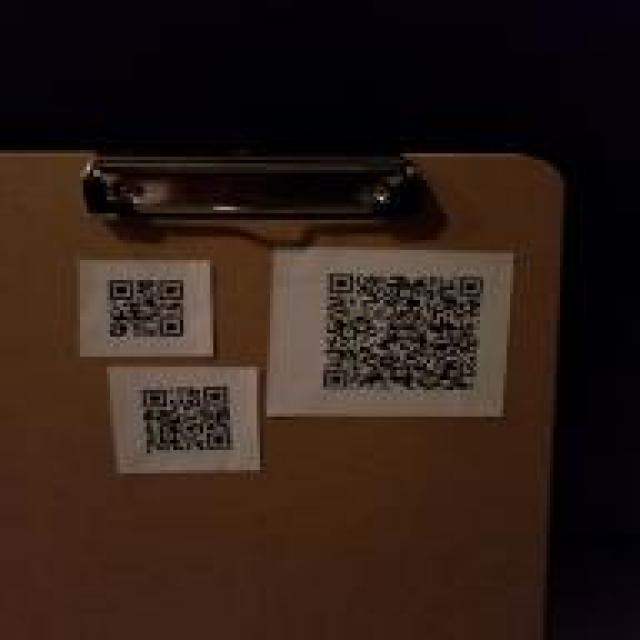QR_CODE: (314, 260, 494, 400), (132, 377, 243, 465), (93, 264, 197, 348)
